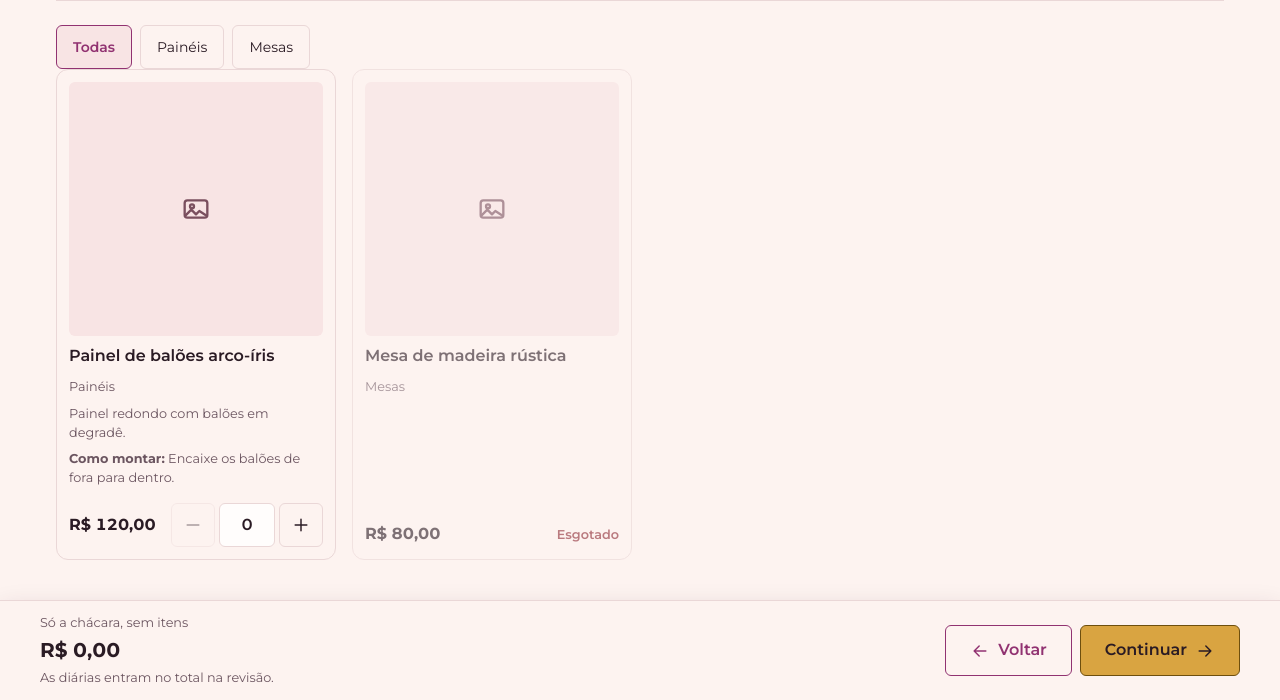
Scenario: BookingWizard, passo de itens › conta no rótulo da aba as unidades escolhidas
(page scrolled)
Expected: the text "Painel de balões arco-íris" is shown, 69,346 -> 274,366
Click the button named "Aumentar Painel de balões arco-íris". click: (301, 525)
box: 279,503 -> 323,547
(page scrolled)
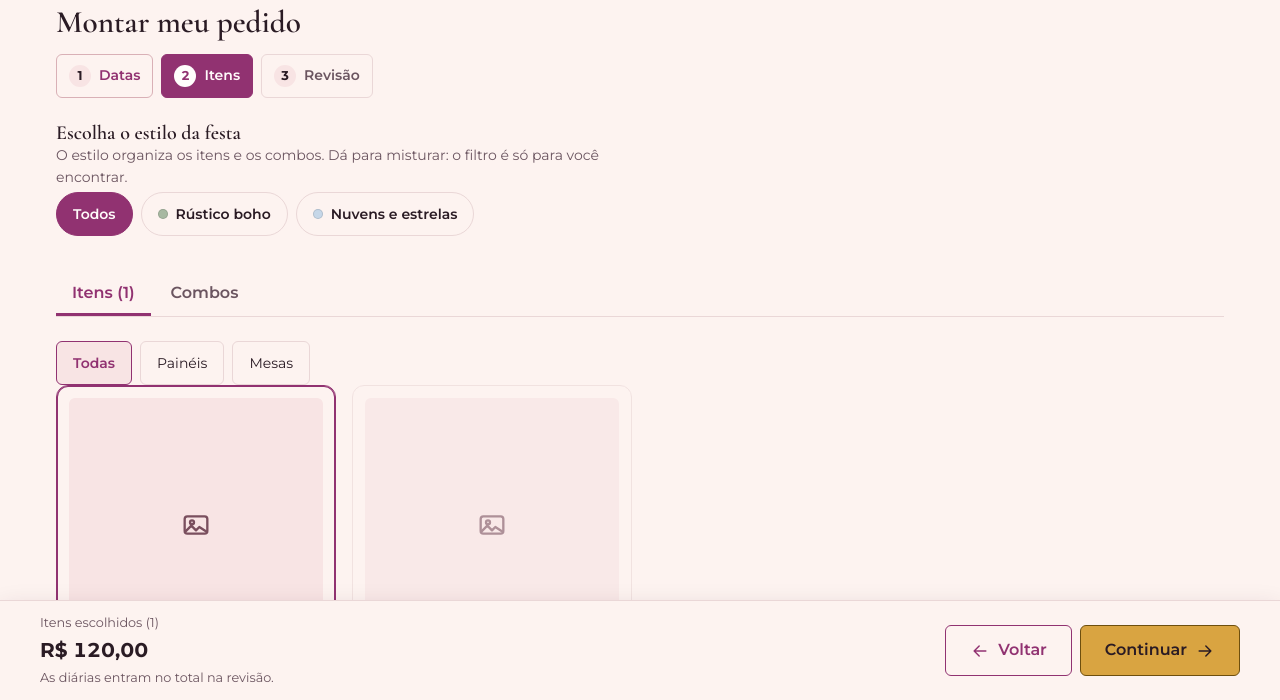
Expected: the tab "Itens (1)" is shown, 56,272 -> 151,316
